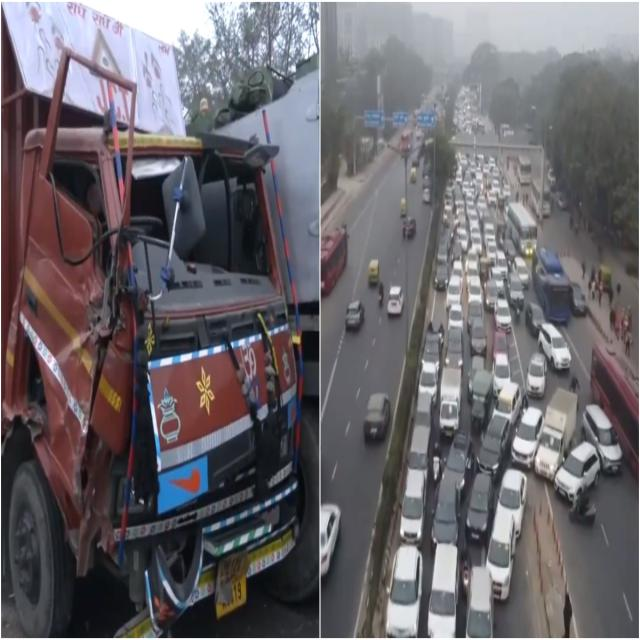accident: (1, 4, 299, 636)
car: (385, 544, 422, 638), (581, 404, 622, 472), (555, 442, 600, 502), (511, 407, 544, 468), (539, 322, 571, 369)
